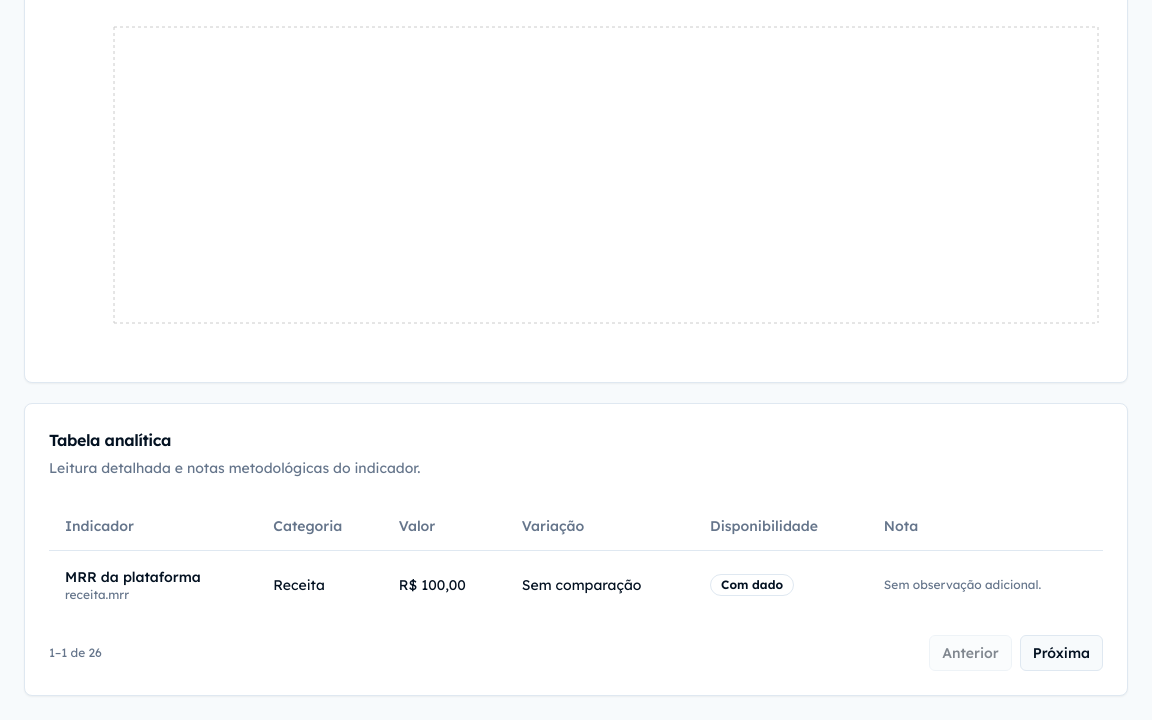
Scenario: BlackboxAdvancedReports › navigates the analytic table with server-side offset and total
(page scrolled)
Expected: the text "MRR da plataforma" is shown, [65,568,201,586]
Expected: the text "1–1 de 26" is shown, [49,644,102,660]
Click the button "Próxima" at [1061, 652], box [1020,634,1103,670]
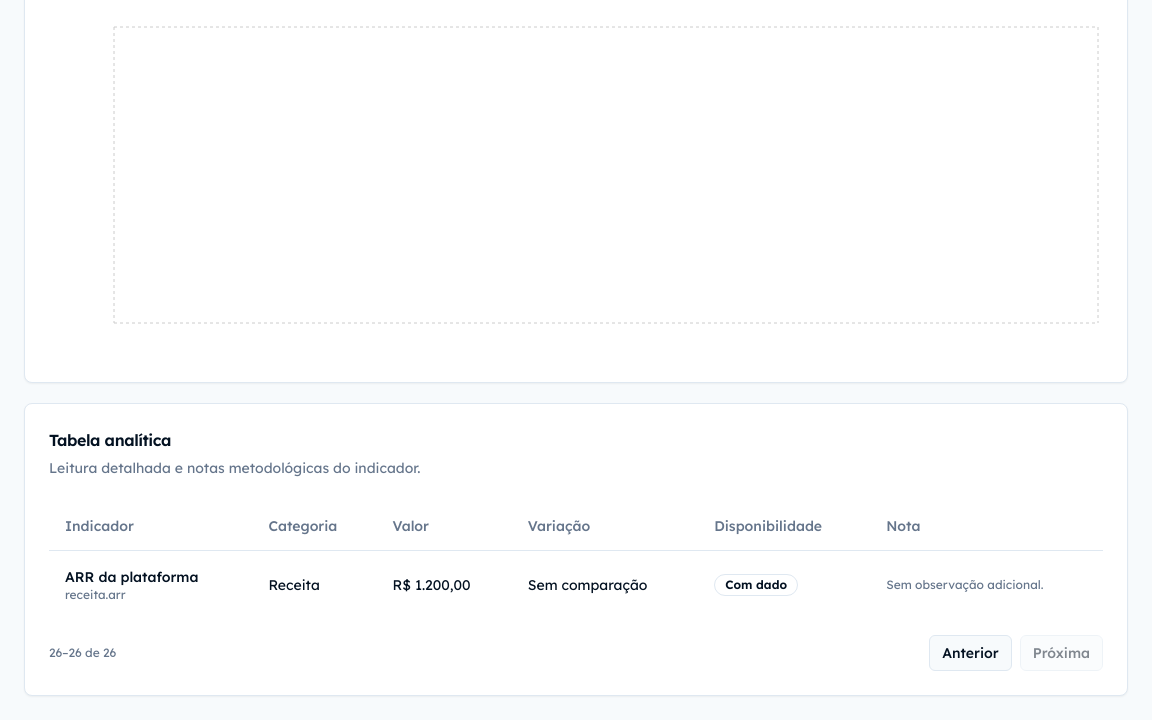
Now the text "ARR da plataforma" is shown, box [65,568,198,586]
Now the text "26–26 de 26" is shown, box [49,644,116,660]
Now the button "Próxima" is disabled, box [1020,634,1103,670]
